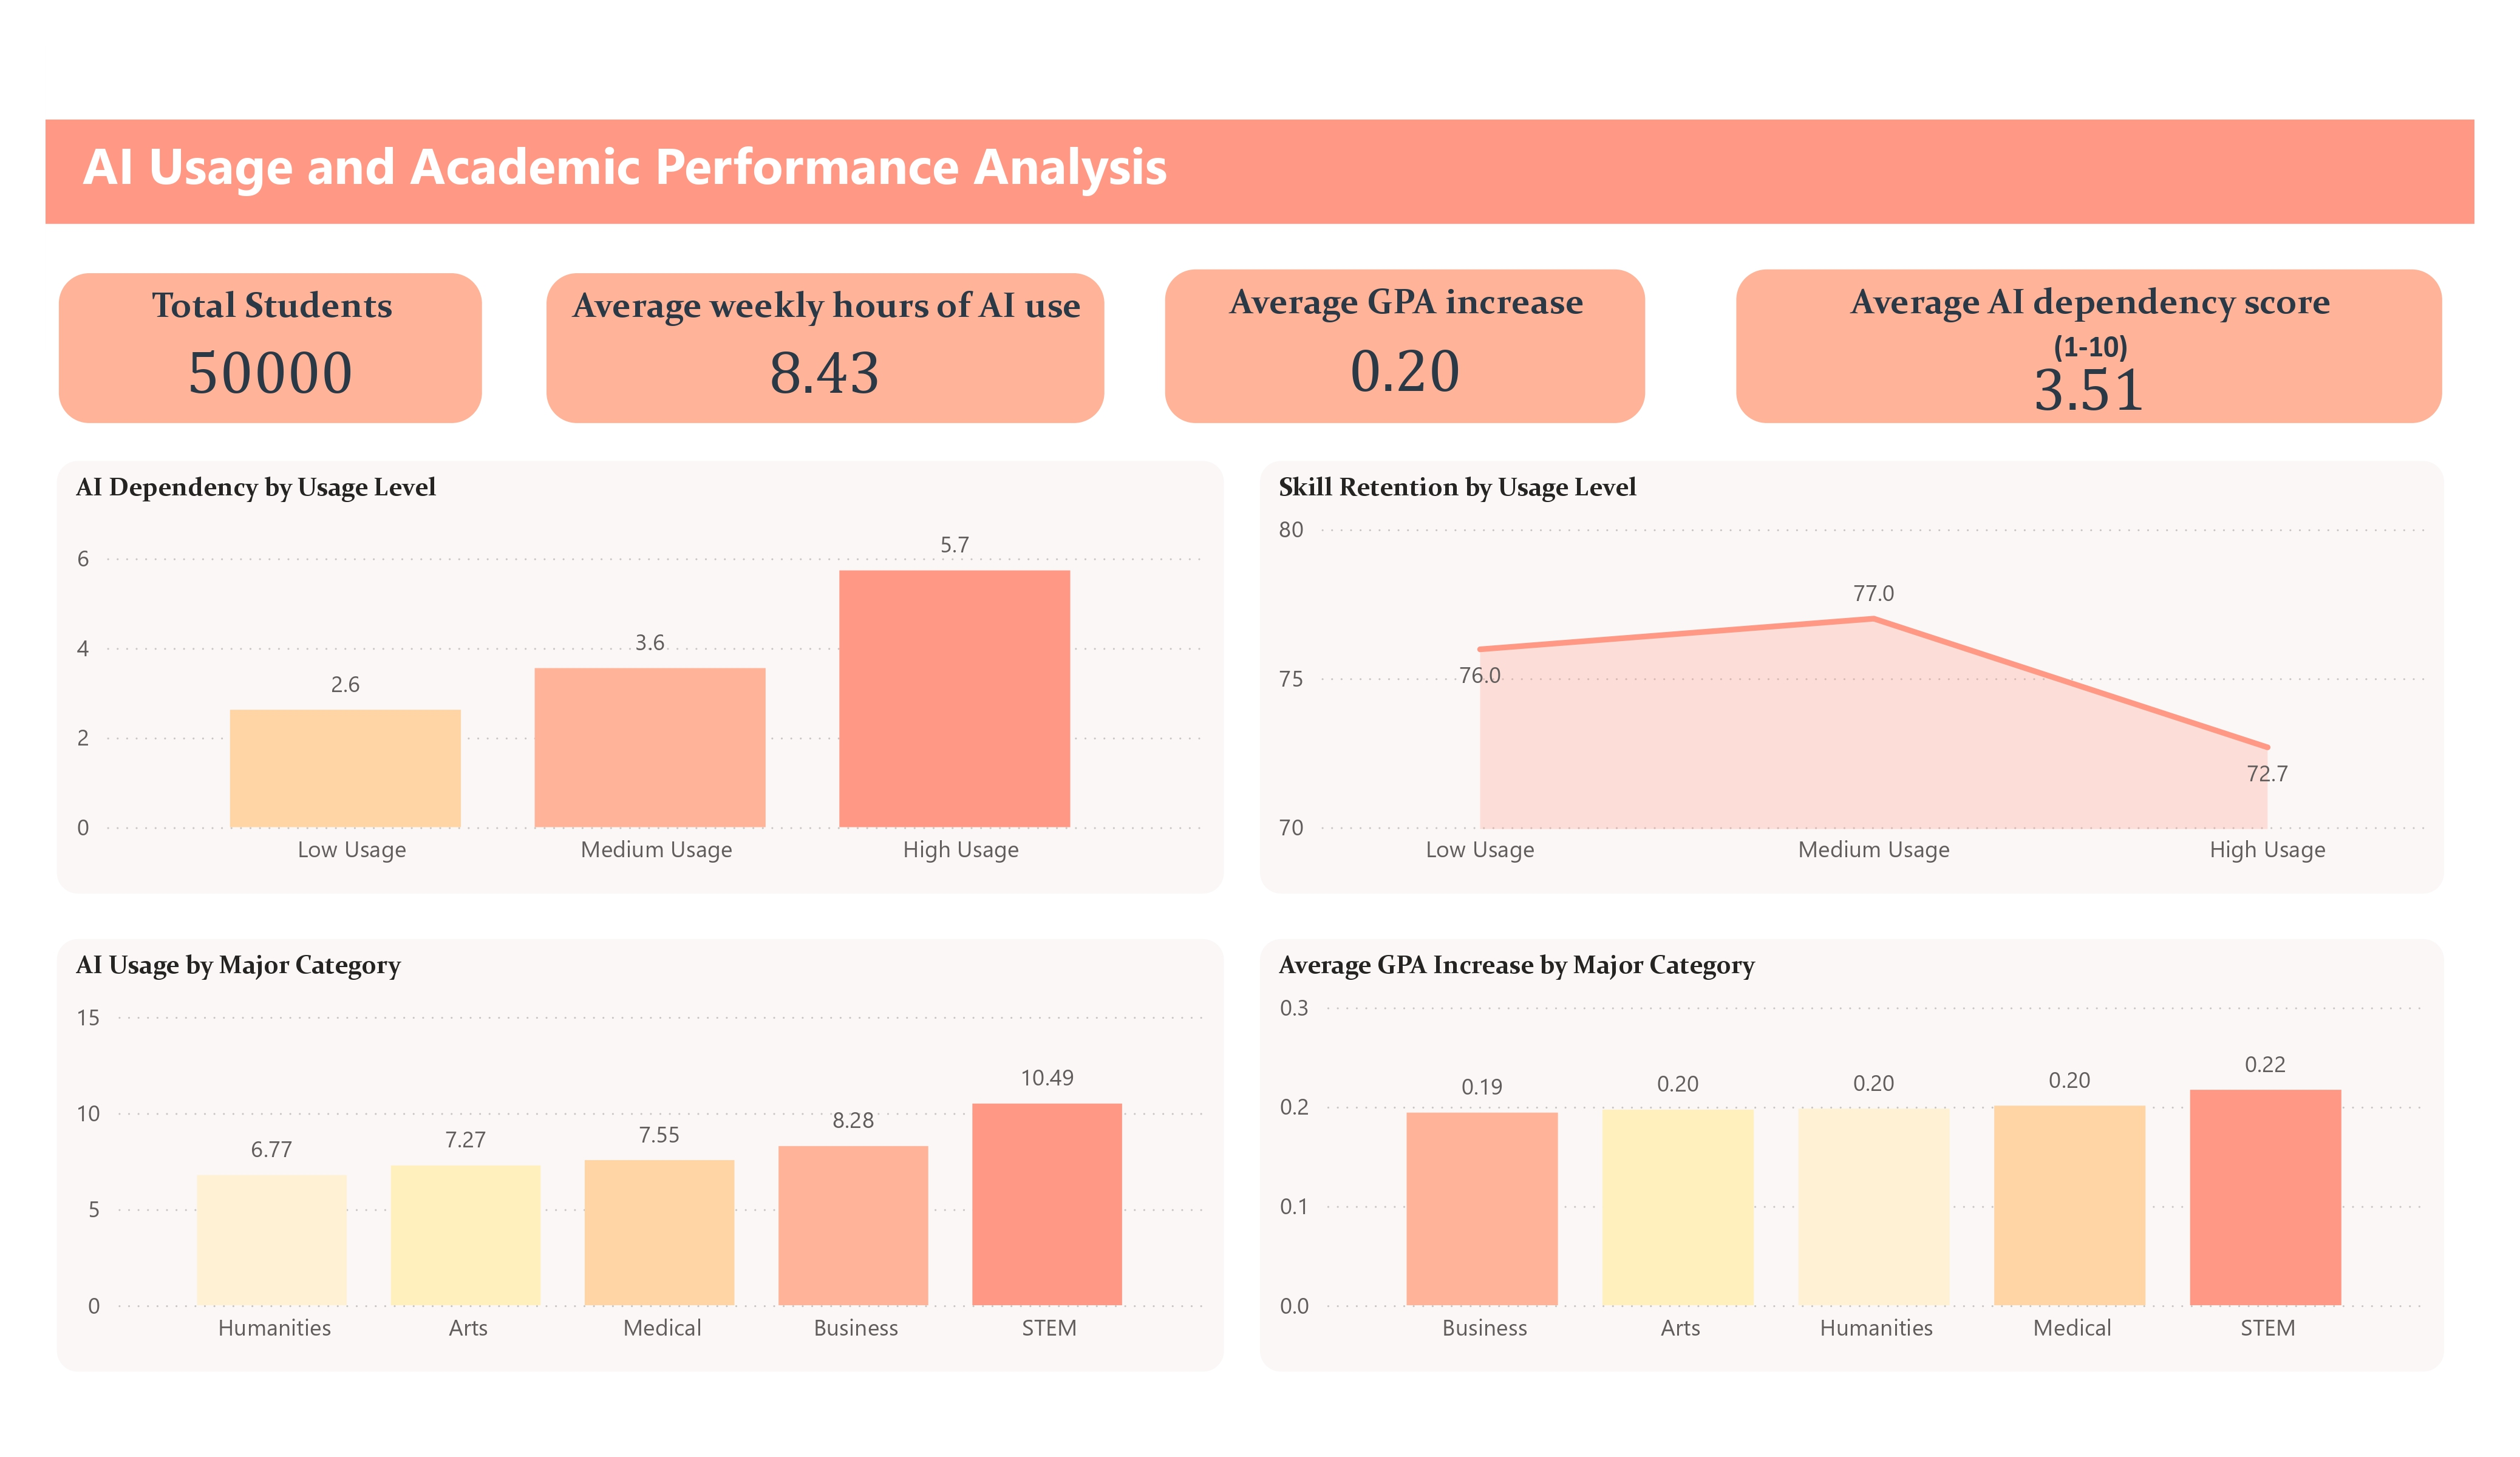

Layout of this report page (visuals, bound fields, positions):
{"tool":"powerbi","page":{"name":"Page 1","canvas":[1280,720],"ordinal":0},"visuals":[{"type":"columnChart","title":"AI Usage by Major Category","fields":{"Category":["q1 csv.major_category"],"Y":["Sum(q1 csv.Average weekly hours of AI use)"]},"box":[6.3,471,615.2,228.4],"z":0},{"type":"columnChart","title":"Average GPA Increase by Major Category","fields":{"Category":["q2 csv.major_category"],"Y":["Sum(q2 csv.rata_rata_kenaikan_ipk)"]},"box":[640.3,471,624.2,228.4],"z":1000},{"type":"kpi","title":"Total Students","fields":{"Indicator":["Sum(kpi.total_students)"],"TrendLine":["kpi.total_students"]},"box":[6.3,119.1,224.8,80.6],"z":2000},{"type":"kpi","title":"Average weekly hours of AI use","fields":{"Indicator":["Sum(kpi.avg_weekly_ai_hours)"],"TrendLine":["kpi.avg_weekly_ai_hours"]},"box":[262.6,118.7,296.7,81.7],"z":3000},{"type":"kpi","title":"Average GPA increase","fields":{"Indicator":["Sum(kpi.avg_gpa_change)"],"TrendLine":["kpi.avg_gpa_change"]},"box":[589.3,117.3,255.2,82.4],"z":4000},{"type":"kpi","title":"Average AI dependency score","fields":{"Indicator":["Sum(kpi.avg_ai_dependency)"],"TrendLine":["kpi.avg_ai_dependency"]},"box":[890.1,117.3,374.3,82.4],"z":5000},{"type":"clusteredColumnChart","title":"AI Dependency by Usage Level","fields":{"Category":["q3.ai_usage_level"],"Y":["Sum(q3.avg_ai_dependency)"]},"box":[6.3,218.5,615.2,228.4],"z":6000},{"type":"lineChart","title":"Skill Retention by Usage Level","fields":{"Category":["q4.kategori_penggunaan_ai"],"Y":["Sum(q4.avg_skill_retention_score)"]},"box":[640.3,218.5,624.2,228.4],"z":7000},{"type":"textbox","box":[0,39.4,1279.7,54.6],"z":8000}]}

Visuals, with their boxes on the page's 1280x720 design canvas (x1, y1, x2, y2). These are canvas units, not pixel positions in the 2520x1457 screenshot, which may show the page scaled, cropped or inside an application window:
"AI Usage by Major Category" columnChart: bbox(6, 471, 622, 699)
"Average GPA Increase by Major Category" columnChart: bbox(640, 471, 1264, 699)
"Total Students" kpi: bbox(6, 119, 231, 200)
"Average weekly hours of AI use" kpi: bbox(263, 119, 559, 200)
"Average GPA increase" kpi: bbox(589, 117, 844, 200)
"Average AI dependency score" kpi: bbox(890, 117, 1264, 200)
"AI Dependency by Usage Level" clusteredColumnChart: bbox(6, 218, 622, 447)
"Skill Retention by Usage Level" lineChart: bbox(640, 218, 1264, 447)
textbox: bbox(0, 39, 1280, 94)
